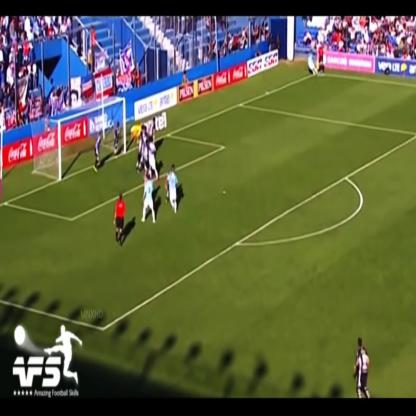corner kick: (282, 15, 353, 116)
